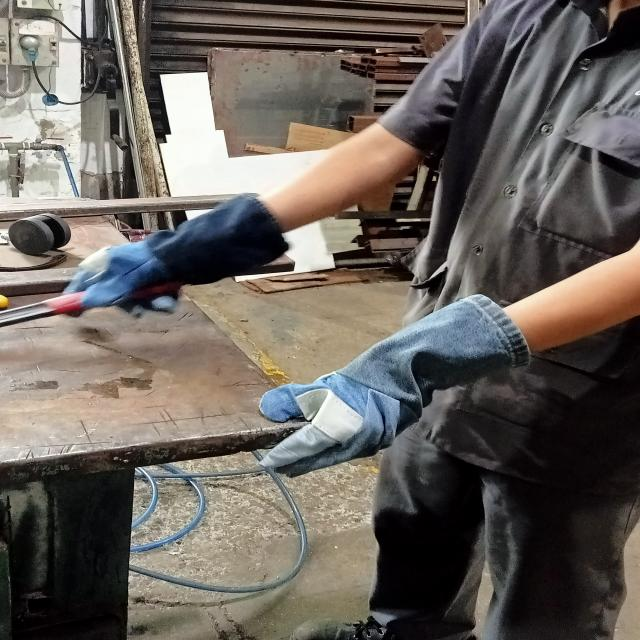Gloves-Detection: (247, 309, 530, 463), (83, 202, 278, 314)
